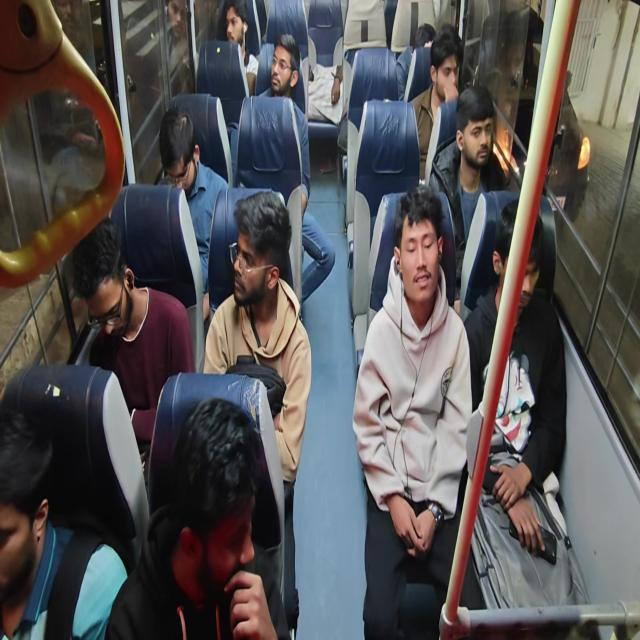person: (0, 424, 78, 640), (166, 400, 243, 591), (81, 234, 168, 386), (220, 202, 293, 354), (376, 206, 464, 323), (495, 235, 549, 357), (160, 76, 208, 191), (301, 43, 362, 132), (454, 90, 508, 181), (436, 36, 476, 93), (267, 36, 304, 95), (215, 5, 254, 50), (404, 18, 434, 76)
